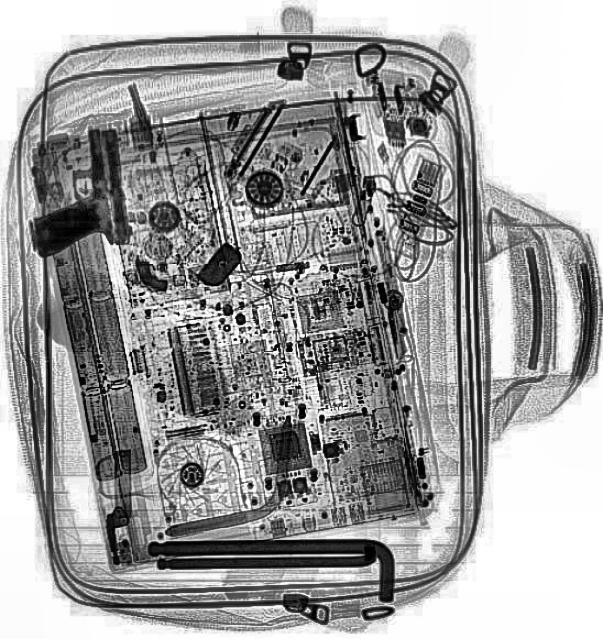Gun: (16, 124, 132, 258)
